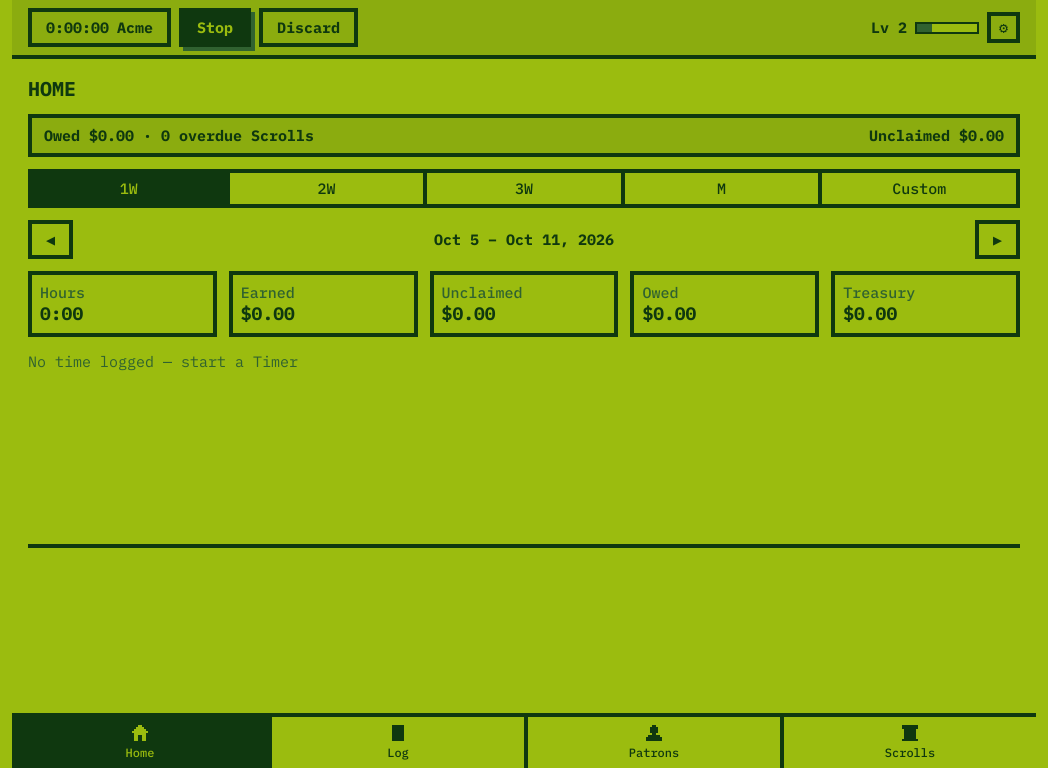
Test case: HUD Level › updates after the Timer stops
The width and height of the screenshot is (1048, 768).
Expected: the text "Lv 2" is shown, 871,18 -> 907,37
What coordinates should you click on to do the following:
click the button "Stop"
I would click on:
 (215, 28)
Its box is 179,8 -> 251,47.
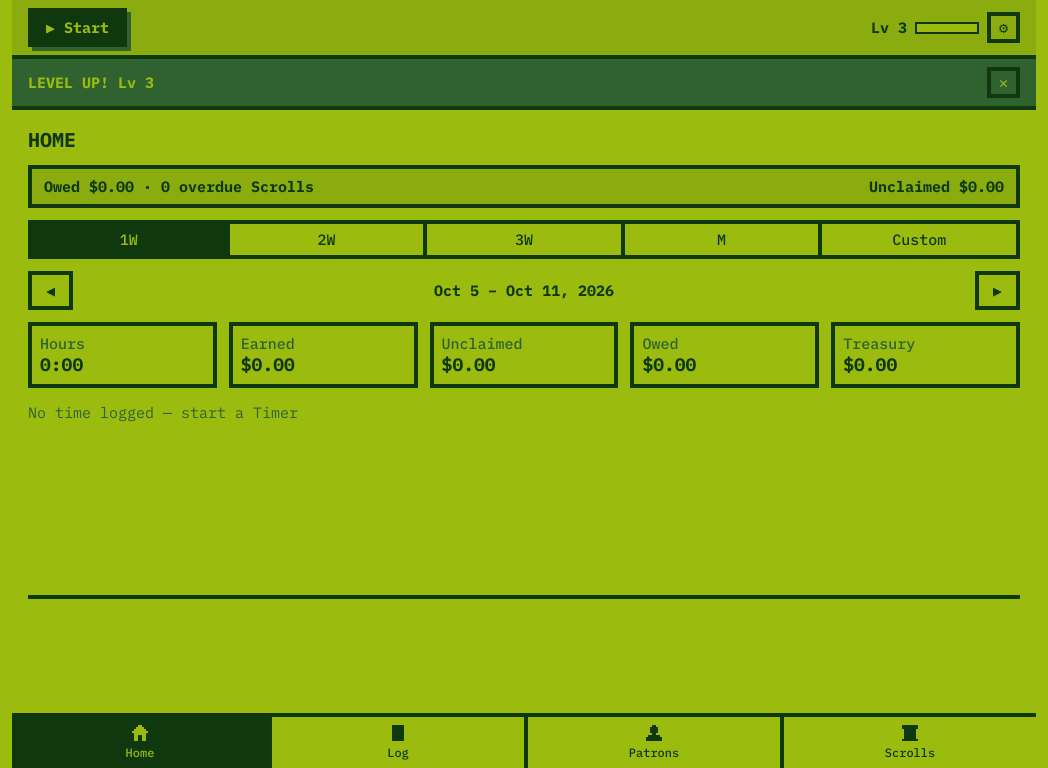
Expected: the text "Lv 3" is shown, 871,18 -> 907,37
